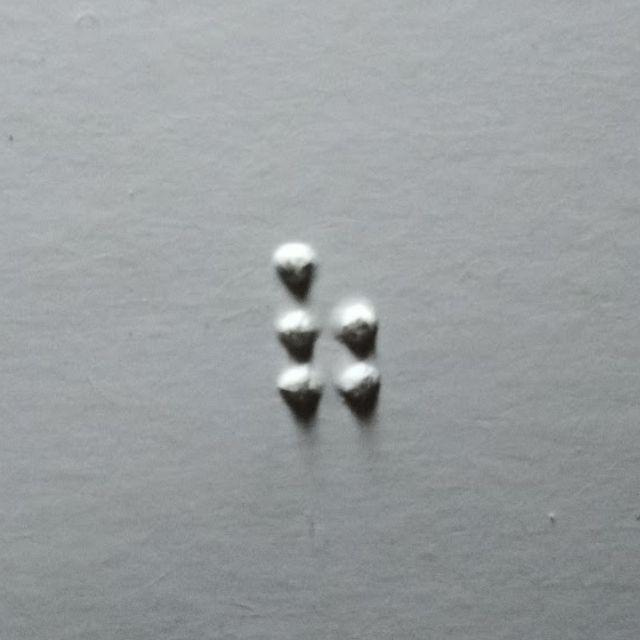hanggang: (273, 244, 381, 423)
